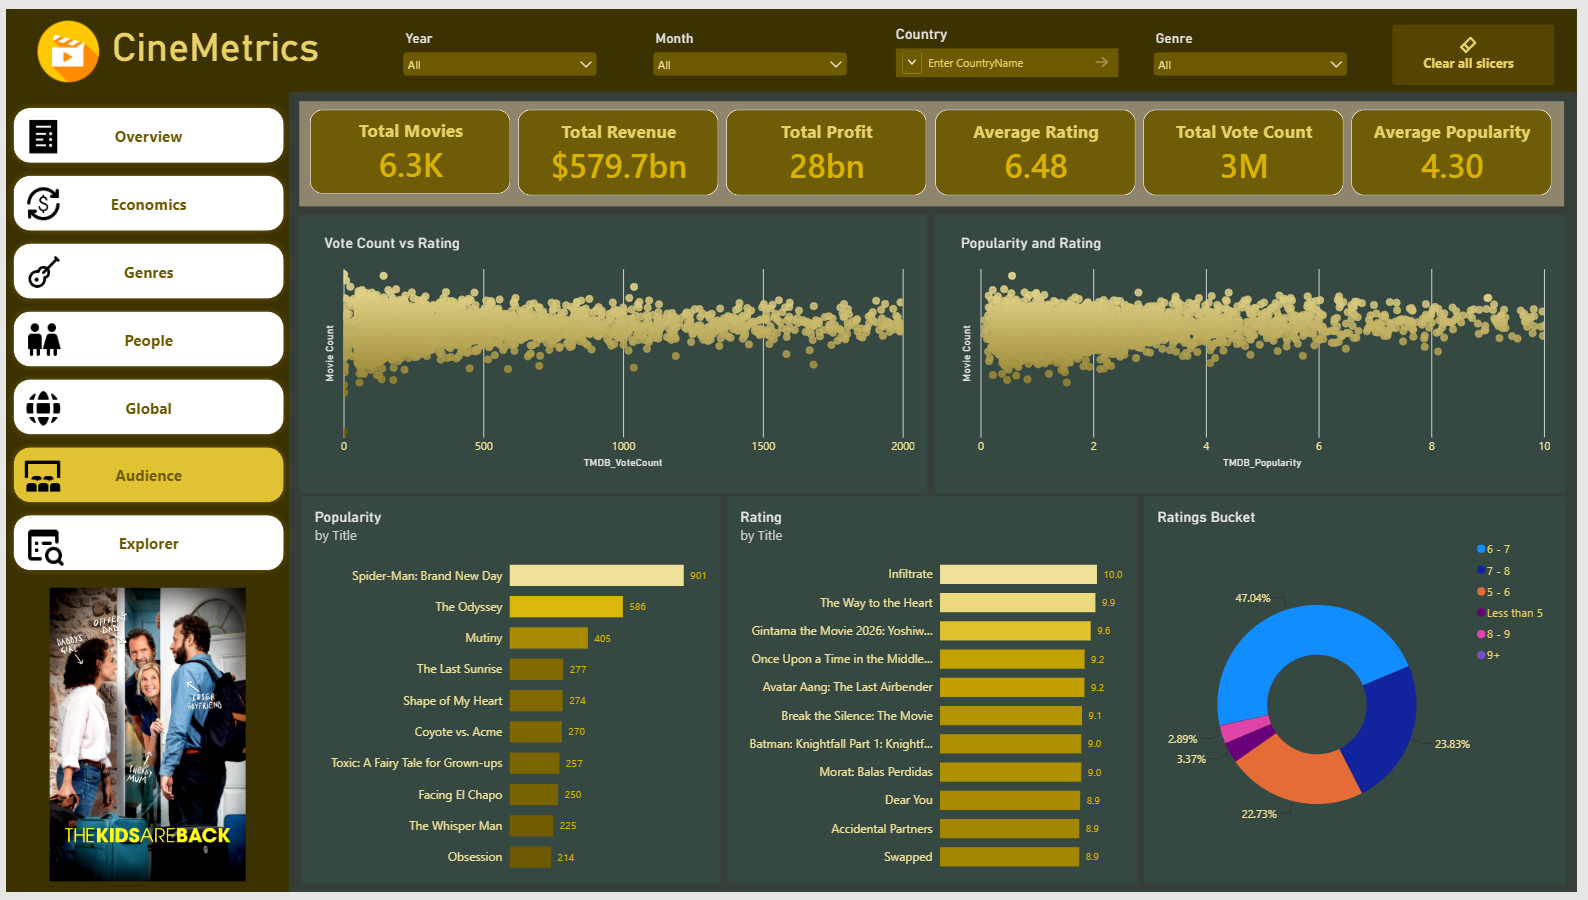

The dashboard page shown, as its layout file describes it:
{"tool":"powerbi","page":{"name":"Audience","canvas":[1920,1080],"ordinal":6},"visuals":[{"type":"shape","box":[0,0,1919.7,101.7],"z":0,"group":"g1"},{"type":"group","id":"g1","title":"header","box":[0,0,1919.7,101.7],"z":0},{"type":"shape","box":[0,101.2,346,978.8],"z":0,"group":"g2"},{"type":"shape","box":[359.3,112.6,1546,128.7],"z":0,"group":"g3"},{"type":"textbox","title":"CineMetrics","box":[130.3,19.1,274.9,62],"z":1000,"group":"g1"},{"type":"group","id":"g2","title":"side panel","box":[0,101.2,347.9,978.8],"z":1000},{"type":"pageNavigator","box":[1.9,112.7,346,585],"z":1000,"group":"g2"},{"type":"cardVisual","fields":{"Data":["measure_KPI.Total Movies"]},"box":[372.2,122.8,245.6,103.8],"z":1000,"group":"g3"},{"type":"image","box":[38.3,13.8,75,75],"z":2000,"group":"g1"},{"type":"group","id":"g3","title":"kpis","box":[359.3,112.6,1546,128.7],"z":2000},{"type":"cardVisual","fields":{"Data":["measure_KPI.Total Profit"]},"box":[881.3,122.8,245.9,105.3],"z":2000,"group":"g3"},{"type":"image","box":[11.5,707.2,323.1,359.4],"z":2000,"group":"g2"},{"type":"actionButton","box":[1693.7,19.1,198.8,74.6],"z":3000,"group":"g1"},{"type":"cardVisual","fields":{"Data":["measure_KPI.Average Popularity"]},"box":[1645.4,122.8,245.9,105.3],"z":3000,"group":"g3"},{"type":"image","box":[15,629.1,60.1,50.1],"z":3000,"group":"g2"},{"type":"slicer","fields":{"Values":["dim dim_date.MonthName"]},"box":[1382,13.3,278.7,86.8],"z":4000,"group":"g1"},{"type":"cardVisual","fields":{"Data":["measure_KPI.Total Vote Count"]},"box":[1390.7,122.8,245.9,105.3],"z":4000,"group":"g3"},{"type":"image","box":[15,545.9,60.1,50.1],"z":4000,"group":"g2"},{"type":"slicer","fields":{"Values":["dim dim_date.MonthName"]},"box":[1076,13.3,278.7,86.8],"z":5000,"group":"g1"},{"type":"cardVisual","fields":{"Data":["measure_KPI.Average Rating"]},"box":[1136,122.8,245.9,105.3],"z":5000,"group":"g3"},{"type":"image","box":[15,462.8,60.1,50.1],"z":5000,"group":"g2"},{"type":"slicer","fields":{"Values":["dim dim_date.MonthName"]},"box":[770,13.3,278.7,86.8],"z":6000,"group":"g1"},{"type":"cardVisual","fields":{"Data":["measure_KPI.Total Revenue"]},"box":[626.7,122.8,245.9,105.3],"z":6000,"group":"g3"},{"type":"image","box":[15,379.6,60.1,50.1],"z":6000,"group":"g2"},{"type":"slicer","fields":{"Values":["dim dim_date.Year"]},"box":[464,13.3,278.7,86.8],"z":7000,"group":"g1"},{"type":"image","box":[15,296.4,60.1,50.1],"z":7000,"group":"g2"},{"type":"image","box":[15,213.2,60.1,50.1],"z":8000,"group":"g2"},{"type":"image","box":[15,130.1,60.1,50.1],"z":9000,"group":"g2"}]}

Visuals, with their boxes in screenshot pixels (x1, y1, x2, y2), scaled from the page's 1920x1080 canvas onto the 1588x900 screenshot:
shape: pyautogui.locateOnScreen(0, 0, 1587, 85)
"header" group: pyautogui.locateOnScreen(0, 0, 1587, 85)
shape: pyautogui.locateOnScreen(0, 84, 286, 899)
shape: pyautogui.locateOnScreen(297, 94, 1576, 201)
"CineMetrics" textbox: pyautogui.locateOnScreen(108, 16, 335, 68)
"side panel" group: pyautogui.locateOnScreen(0, 84, 288, 899)
pageNavigator: pyautogui.locateOnScreen(2, 94, 288, 581)
cardVisual - measure_KPI.Total Movies: pyautogui.locateOnScreen(308, 102, 511, 189)
image: pyautogui.locateOnScreen(32, 12, 94, 74)
"kpis" group: pyautogui.locateOnScreen(297, 94, 1576, 201)
cardVisual - measure_KPI.Total Profit: pyautogui.locateOnScreen(729, 102, 932, 190)
image: pyautogui.locateOnScreen(10, 589, 277, 889)
actionButton: pyautogui.locateOnScreen(1401, 16, 1565, 78)
cardVisual - measure_KPI.Average Popularity: pyautogui.locateOnScreen(1361, 102, 1564, 190)
image: pyautogui.locateOnScreen(12, 524, 62, 566)
slicer - dim dim_date.MonthName: pyautogui.locateOnScreen(1143, 11, 1374, 83)
cardVisual - measure_KPI.Total Vote Count: pyautogui.locateOnScreen(1150, 102, 1354, 190)
image: pyautogui.locateOnScreen(12, 455, 62, 497)
slicer - dim dim_date.MonthName: pyautogui.locateOnScreen(890, 11, 1120, 83)
cardVisual - measure_KPI.Average Rating: pyautogui.locateOnScreen(940, 102, 1143, 190)
image: pyautogui.locateOnScreen(12, 386, 62, 427)
slicer - dim dim_date.MonthName: pyautogui.locateOnScreen(637, 11, 867, 83)
cardVisual - measure_KPI.Total Revenue: pyautogui.locateOnScreen(518, 102, 722, 190)
image: pyautogui.locateOnScreen(12, 316, 62, 358)
slicer - dim dim_date.Year: pyautogui.locateOnScreen(384, 11, 614, 83)
image: pyautogui.locateOnScreen(12, 247, 62, 289)
image: pyautogui.locateOnScreen(12, 178, 62, 219)
image: pyautogui.locateOnScreen(12, 108, 62, 150)
